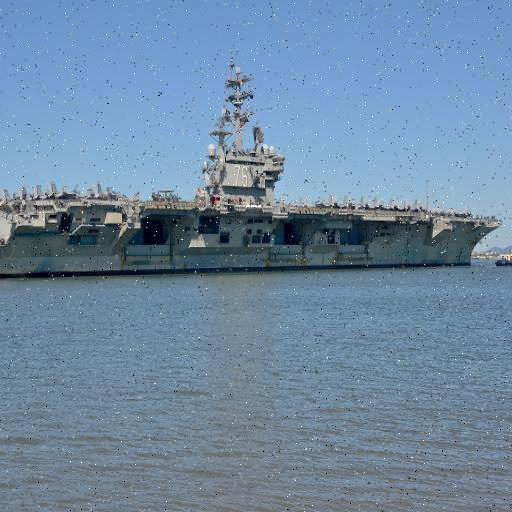Portanaves: (1, 52, 504, 287)
